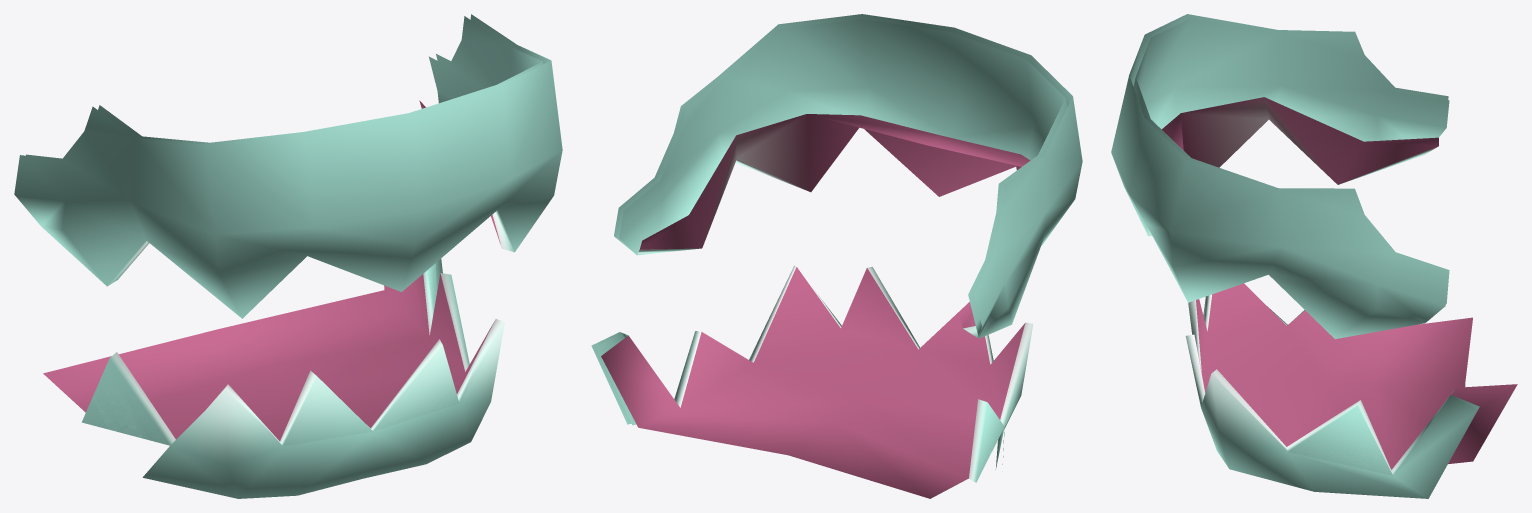
File: Teeth.fbx
3 renders of one model, left to right at view 1: azimuth 30°, elevation 25°; view 2: azimuth 150°, elevation 25°; view 3: azimuth 270°, elevation 25°, orthographic. The views are drawn at different scales.
Parts seen in each view (by area): view 1: Cube.001, Cube; view 2: Cube.001, Cube; view 3: Cube.001, Cube.
Boxes of the visible parts, <box> form: Cube.001: <box>14,14,562,318</box>; Cube: <box>43,258,504,498</box>; Cube.001: <box>614,14,1082,338</box>; Cube: <box>591,265,1033,498</box>; Cube.001: <box>1111,14,1449,338</box>; Cube: <box>1185,283,1517,498</box>.
Size of the model in its own units: 378 by 333 by 351.
